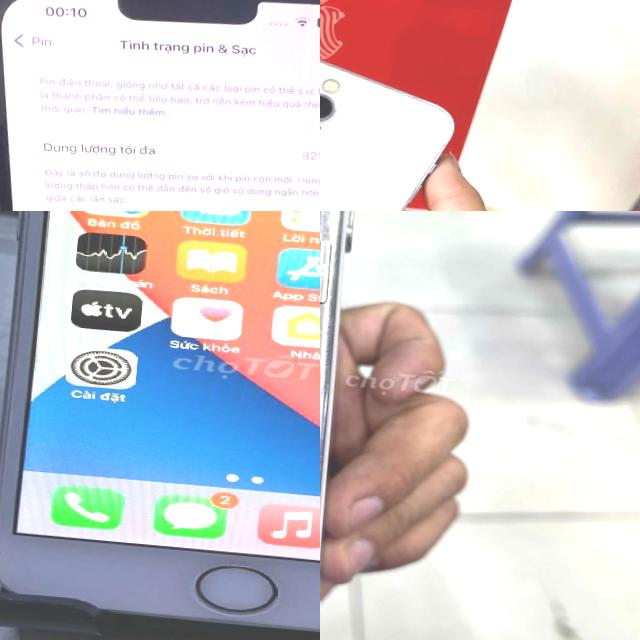scratch: (320, 211, 353, 530)
screen_defect: (219, 0, 320, 211)
